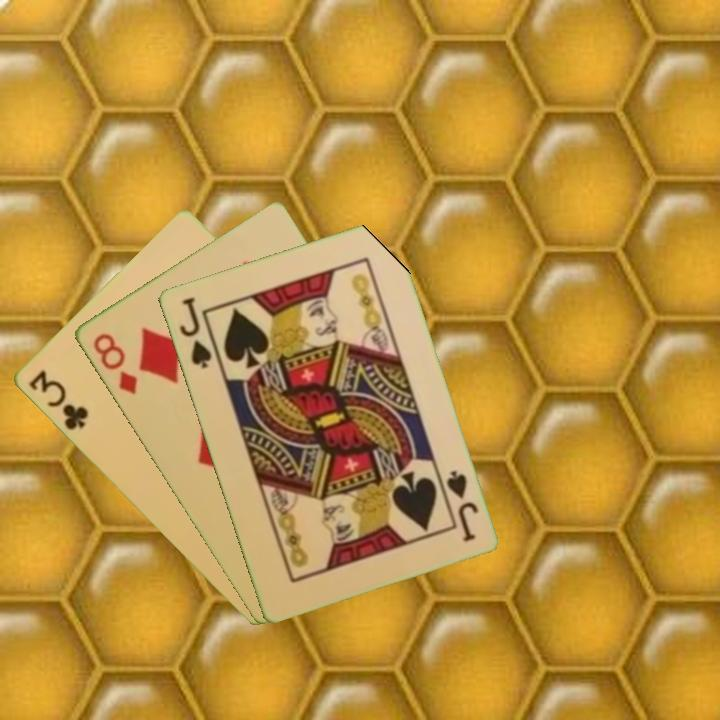3c: (25, 366, 91, 433)
8d: (89, 329, 140, 397)
Js: (435, 466, 480, 545), (175, 293, 214, 372)
